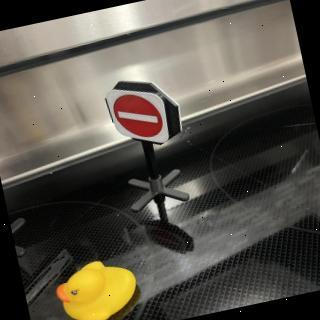duck_regular: (52, 254, 144, 320)
sign_noentry: (103, 73, 175, 154)
